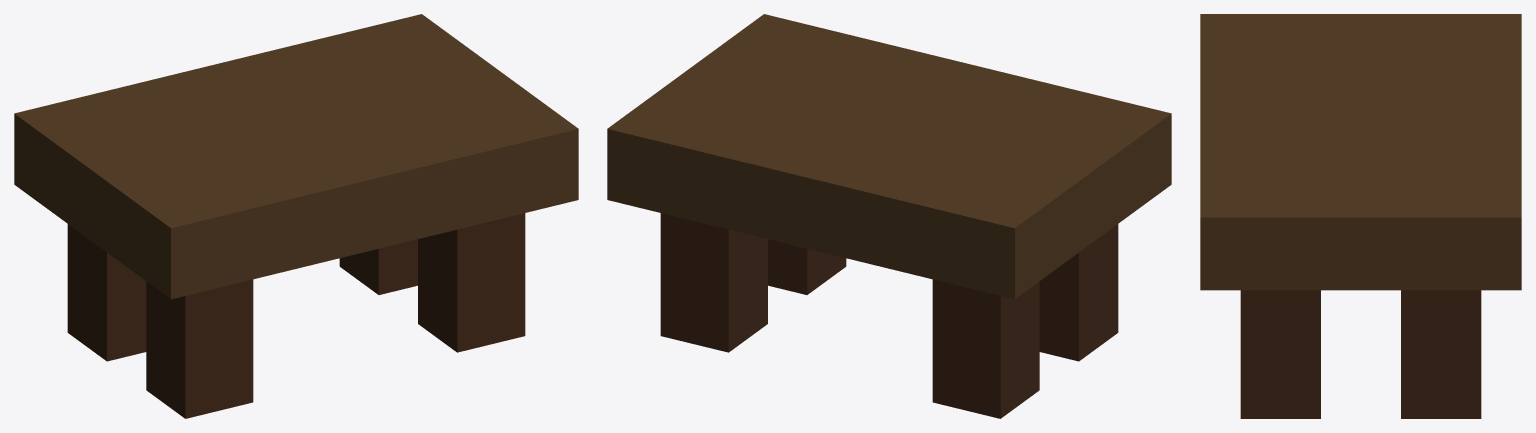
The model's file is Table.gltf.
The picture shows the model from 3 angles, left to right: view 1: azimuth 30°, elevation 25°; view 2: azimuth 150°, elevation 25°; view 3: azimuth 270°, elevation 25°; orthographic projection. The views are drawn at different scales.
Visible parts, largest first — view 1: plate, cube (×4); view 2: plate, cube (×4); view 3: plate, cube (×2).
Part boxes in pixels (left/top/right/bottom): plate: left=14, top=14, right=578, bottom=299; cube (×4): left=67, top=213, right=525, bottom=418; plate: left=607, top=14, right=1171, bottom=299; cube (×4): left=660, top=213, right=1118, bottom=418; plate: left=1200, top=14, right=1521, bottom=290; cube (×2): left=1240, top=290, right=1481, bottom=418.
Bounding box in the file's own units: 0.375 × 0.1875 × 0.25.
Materials: 1 (1 with a texture image).
